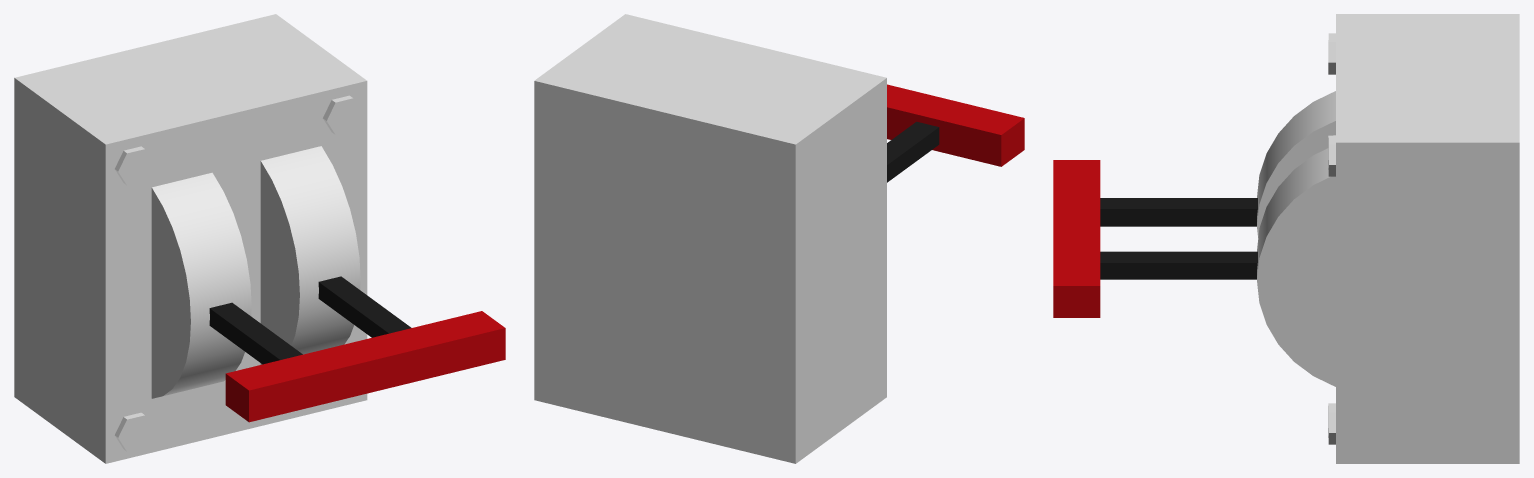
The model's file is Lever.fbx.
3 renders of one model, left to right at view 1: azimuth 30°, elevation 25°; view 2: azimuth 150°, elevation 25°; view 3: azimuth 270°, elevation 25°, orthographic.
Visible parts, largest first — view 1: Box, Left Cylinder, Right Cylinder, Handle, Fixings, Left Arm, Right Arm; view 2: Box, Handle, Left Arm; view 3: Box, Right Cylinder, Handle, Left Arm, Right Arm, Left Cylinder, Fixings.
Boxes of the visible parts, <box> form: Box: <box>14,14,367,463</box>; Left Cylinder: <box>151,172,251,398</box>; Right Cylinder: <box>260,146,360,364</box>; Handle: <box>225,311,505,422</box>; Fixings: <box>114,95,361,451</box>; Left Arm: <box>209,302,302,364</box>; Right Arm: <box>318,276,411,337</box>; Box: <box>534,14,886,463</box>; Handle: <box>887,84,1024,166</box>; Left Arm: <box>887,121,939,182</box>; Box: <box>1336,14,1519,463</box>; Right Cylinder: <box>1257,148,1335,386</box>; Handle: <box>1053,160,1100,317</box>; Left Arm: <box>1100,198,1257,226</box>; Right Arm: <box>1100,251,1257,279</box>; Left Cylinder: <box>1257,91,1335,237</box>; Fixings: <box>1328,33,1335,444</box>.
Size of the model in its own units: 240 by 280 by 368.
